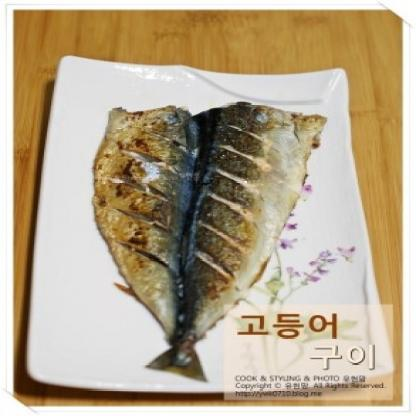Peixe: (58, 83, 352, 388)
